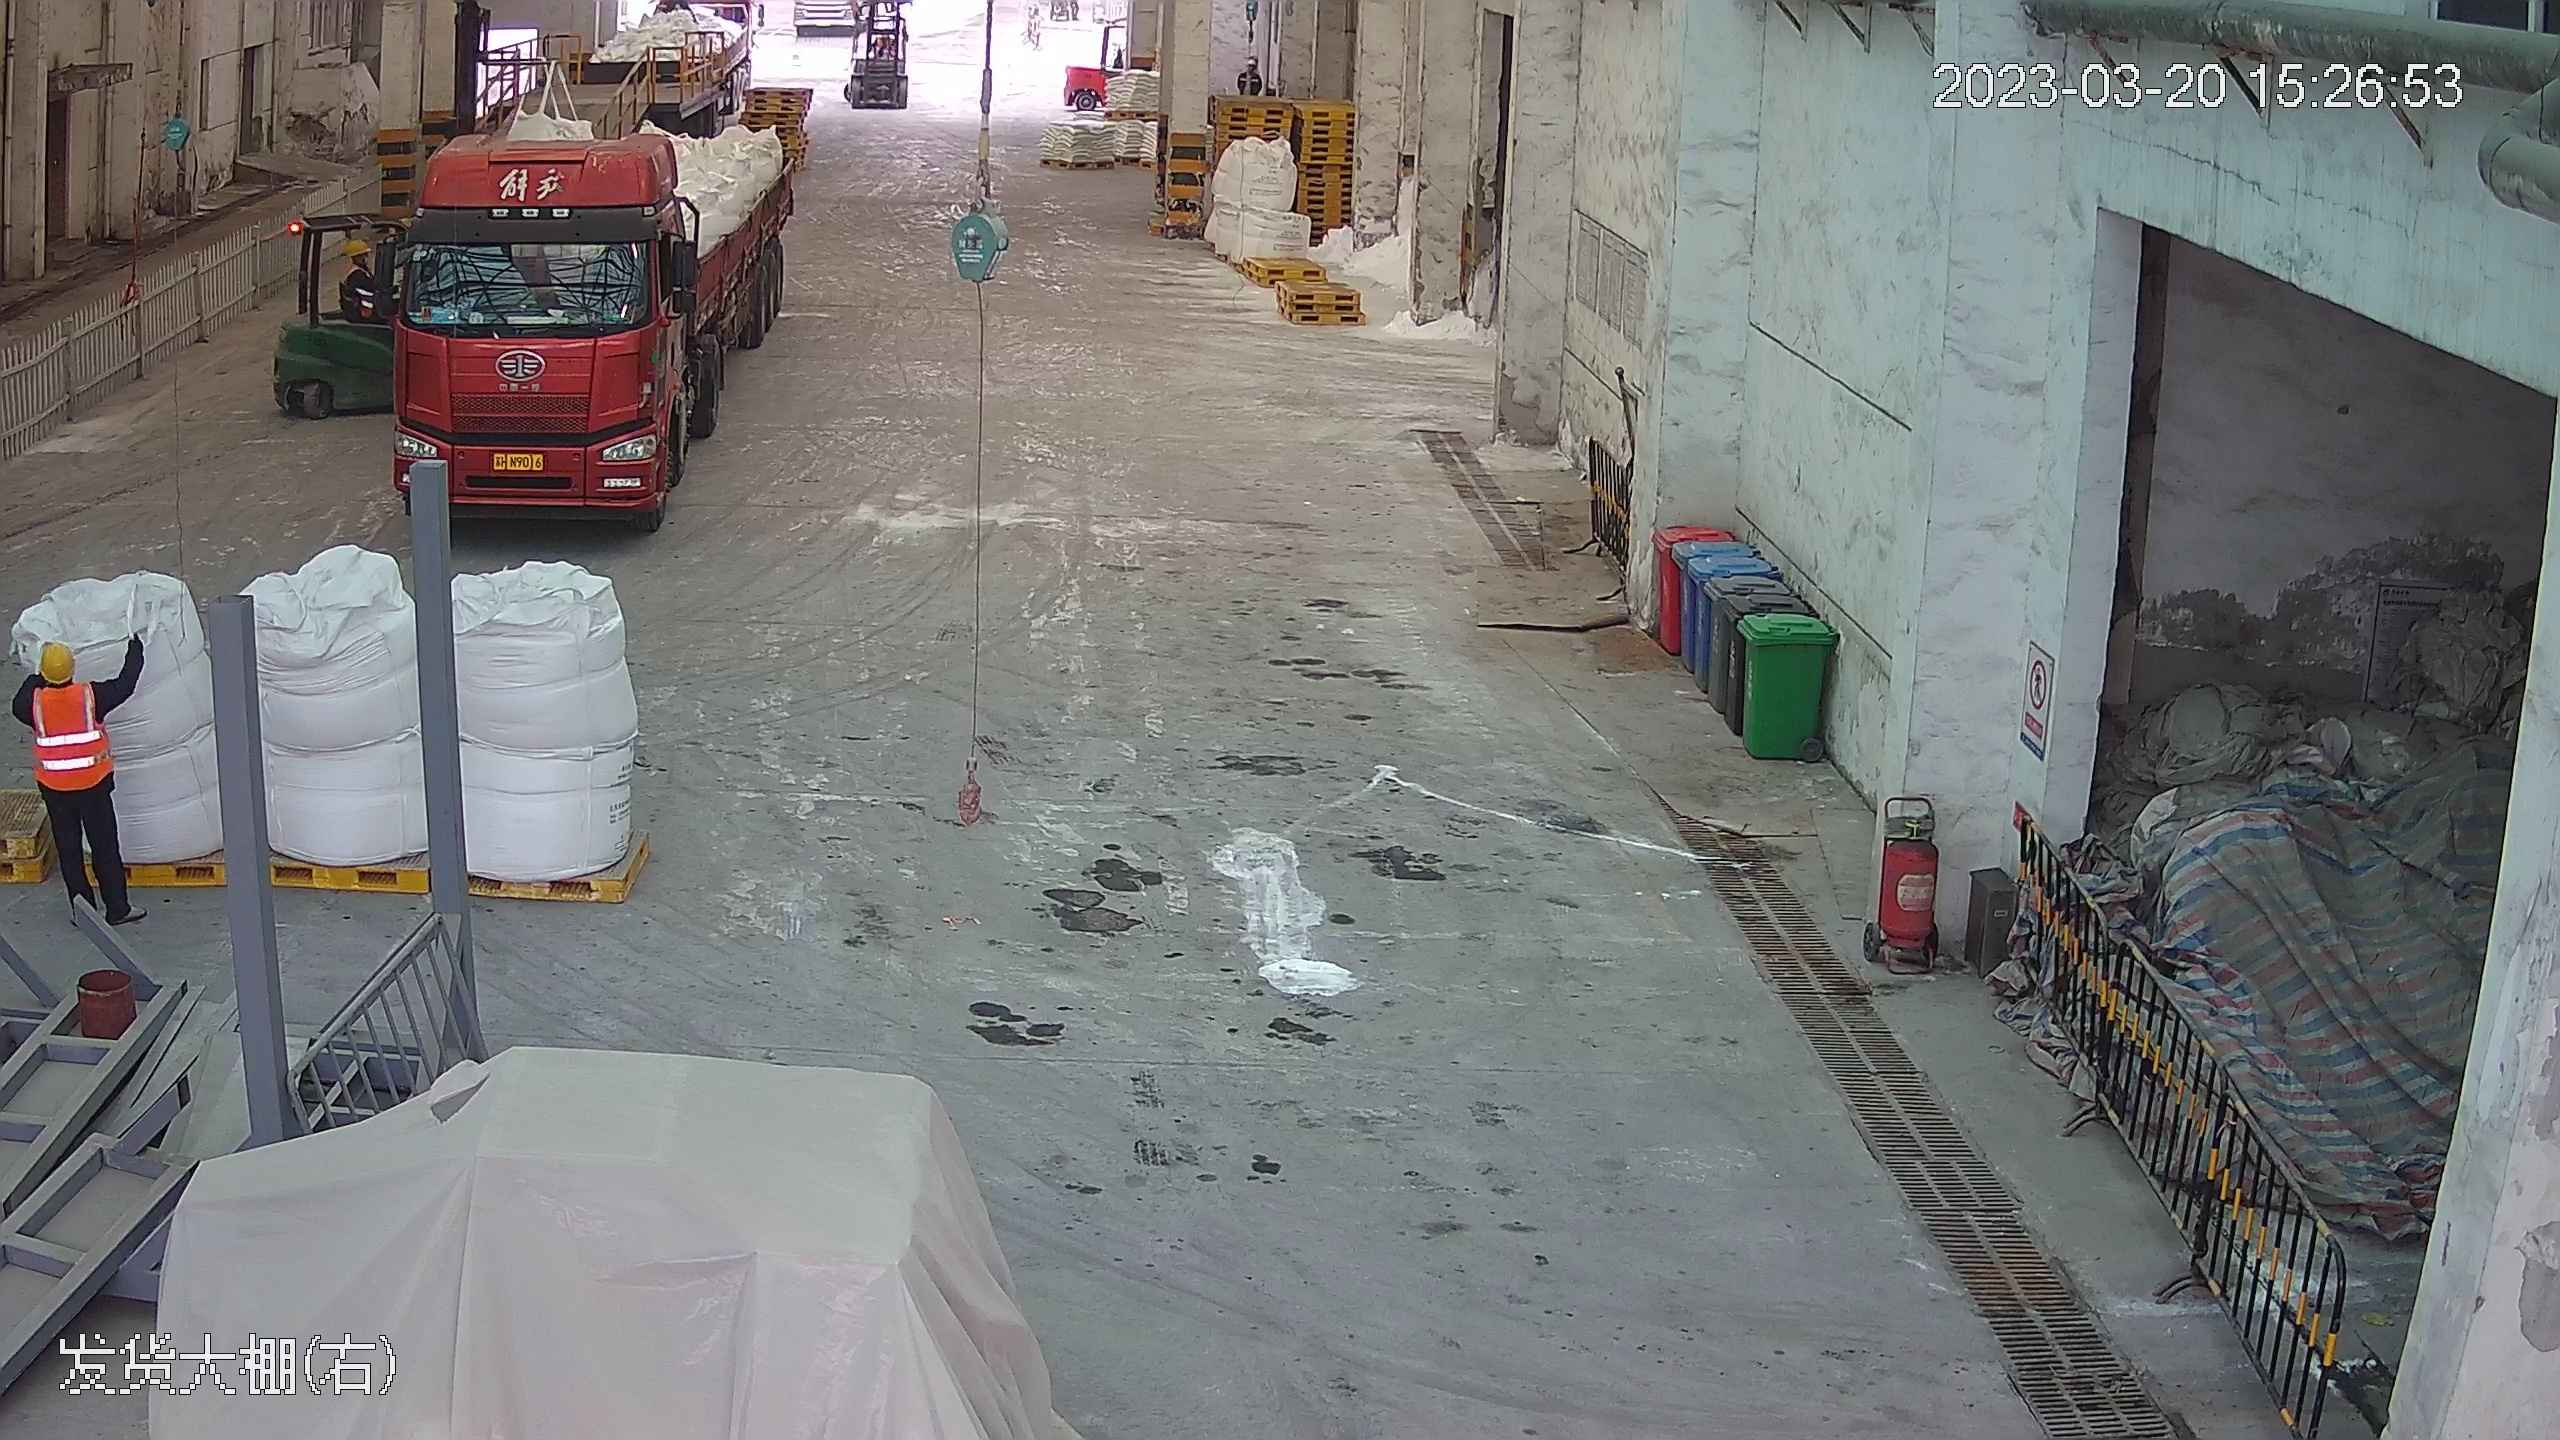head: (20, 636, 109, 726), (336, 238, 379, 290)
helmet: (33, 637, 77, 680), (343, 236, 370, 259)
people: (13, 626, 134, 917)
truck: (382, 102, 808, 519)
